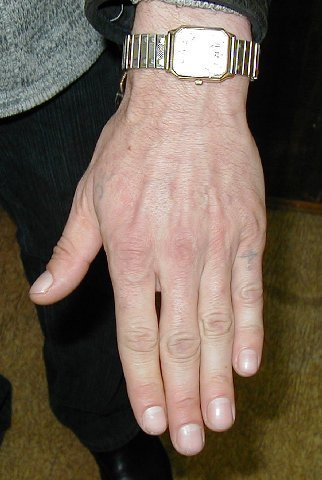tatu9_krest: (242, 243, 259, 276)
